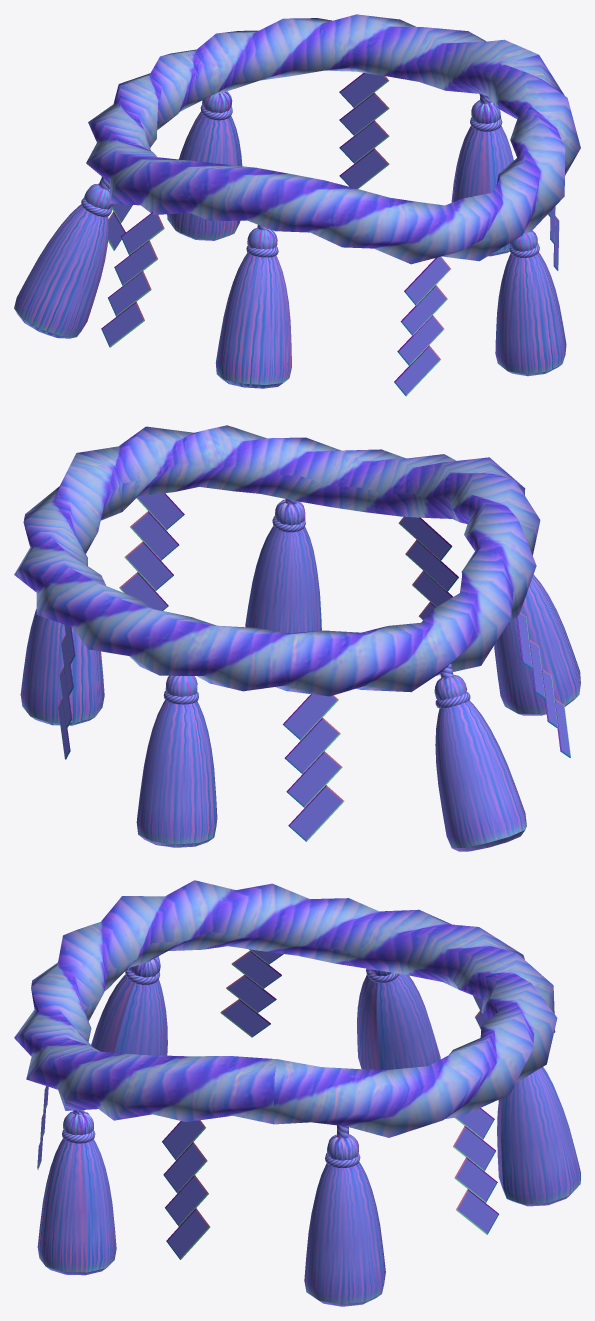
The model's file is SM_EastLands_Rope_03.fbx.
3 views of the same model, one above another, from view 1: azimuth 30°, elevation 25°; view 2: azimuth 150°, elevation 25°; view 3: azimuth 270°, elevation 25° (orthographic). The views are drawn at different scales.
Parts seen in each view (by area): view 1: SM_EastLands_Rope_03_LOD0; view 2: SM_EastLands_Rope_03_LOD0; view 3: SM_EastLands_Rope_03_LOD0.
Boxes of the visible parts, <box> form: SM_EastLands_Rope_03_LOD0: <box>14,14,580,396</box>; SM_EastLands_Rope_03_LOD0: <box>14,425,580,851</box>; SM_EastLands_Rope_03_LOD0: <box>14,880,580,1306</box>.
Size of the model in its own units: 204 by 92.48 by 193.
